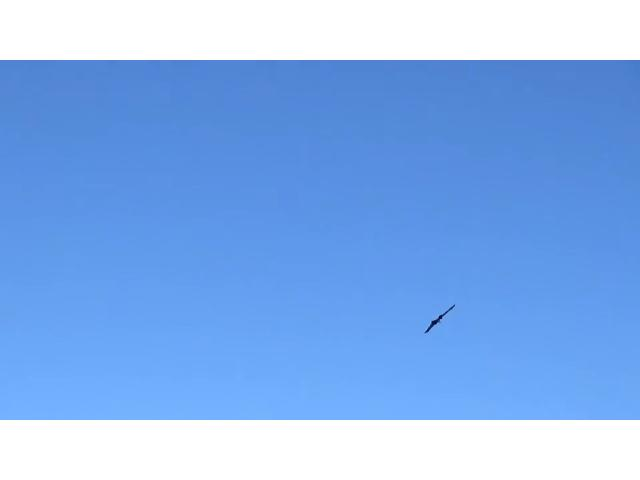Anti-Drone: (412, 296, 464, 340)
